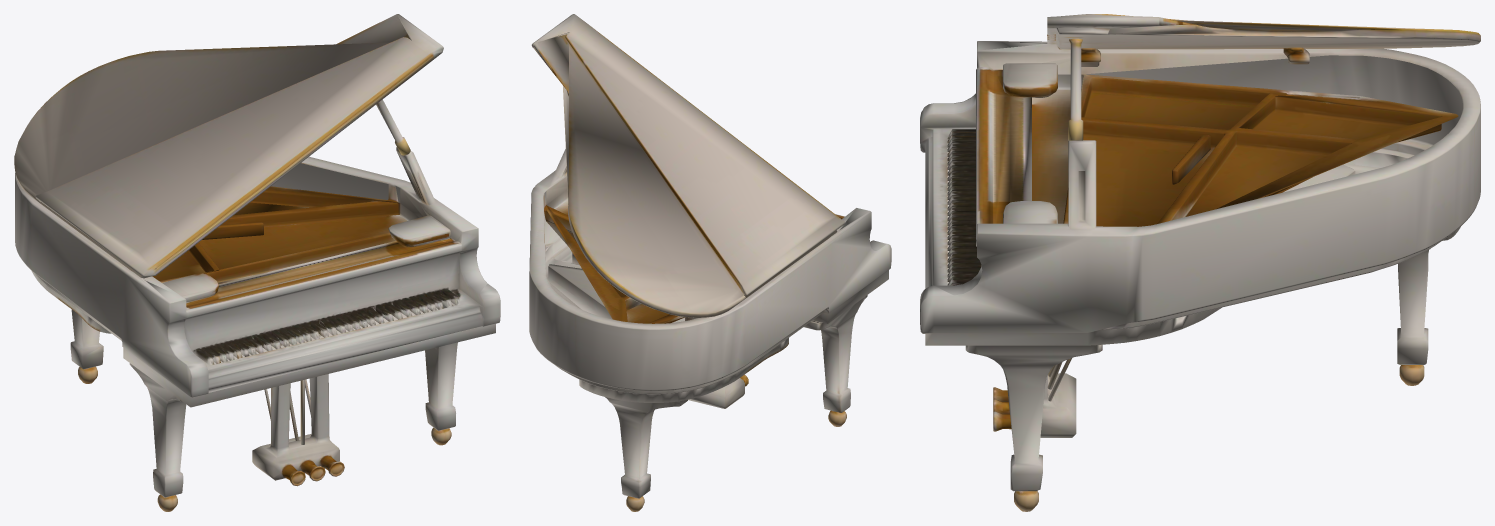
File: Furniture__a_grand_piano_a034b983_v4.cluster.glb
3 views of the same model, side by side, from view 1: azimuth 30°, elevation 25°; view 2: azimuth 150°, elevation 25°; view 3: azimuth 270°, elevation 25° (orthographic). The views are drawn at different scales.
Visible parts, largest first — view 1: material; view 2: material; view 3: material.
Boxes of the visible parts, box(x1,y1,x2,y2) form: material: box(14, 14, 500, 511); material: box(529, 14, 891, 511); material: box(920, 14, 1480, 511).
Bounding box in the file's own units: 1.54 × 1.86 × 1.9.
Materials: 1 (1 with a texture image).
